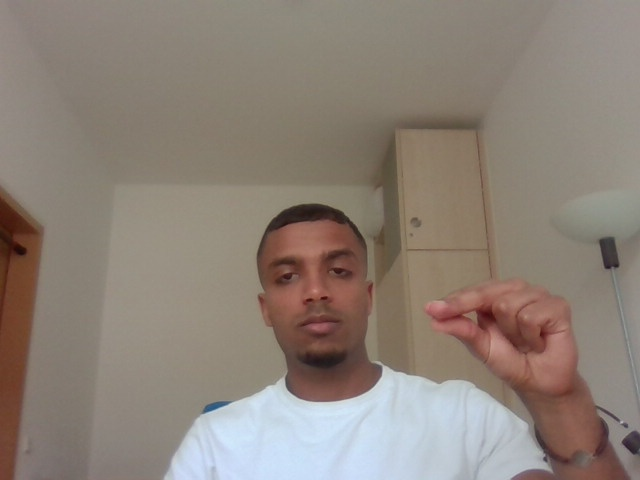no: (414, 261, 605, 408)
